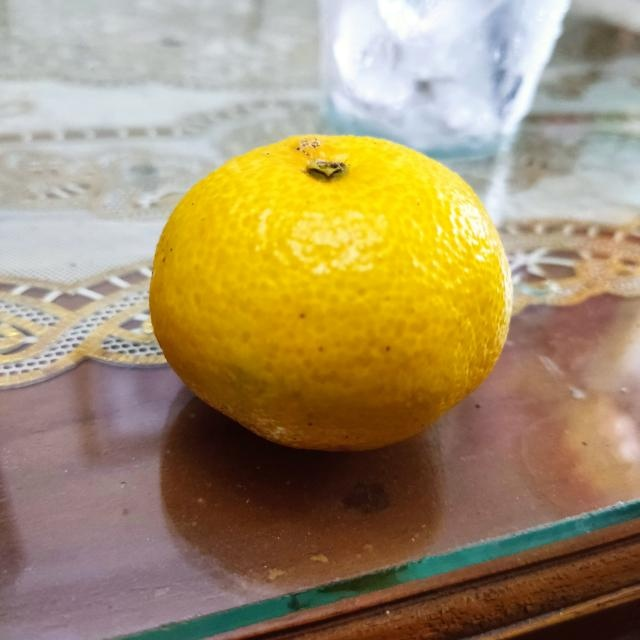agrume: (148, 131, 512, 453)
